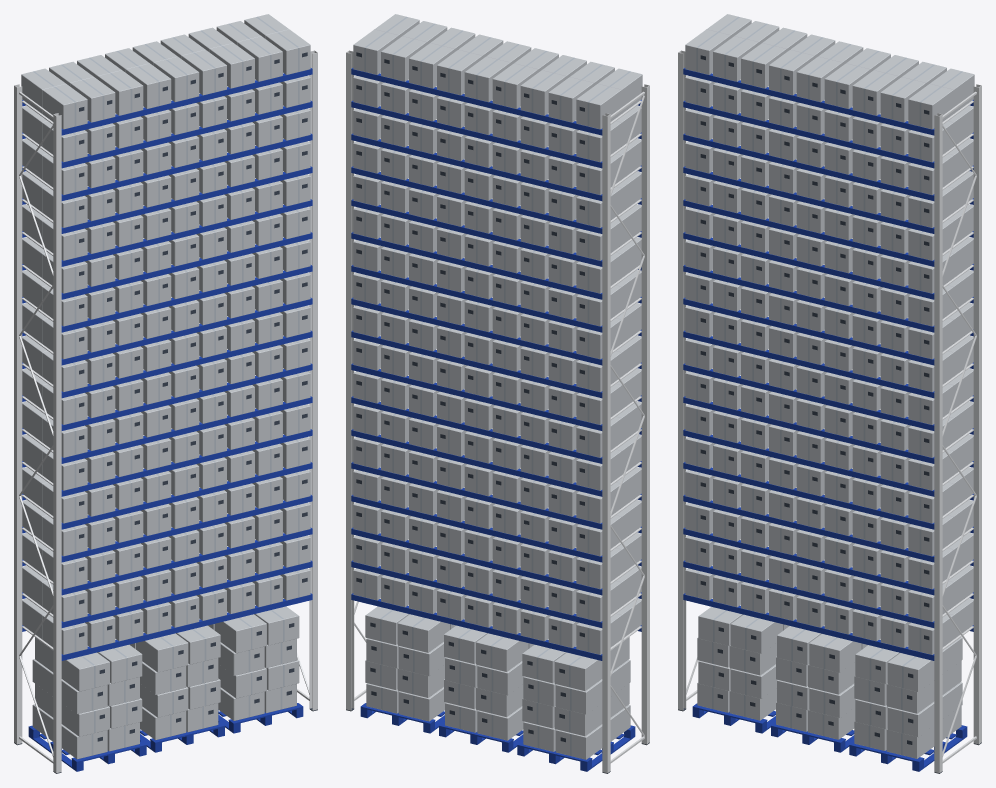
The model's file is SM_MPR_CADRack_F17P1_W144_Standard.fbx.
The picture shows the model from 3 angles, left to right: view 1: azimuth 30°, elevation 25°; view 2: azimuth 150°, elevation 25°; view 3: azimuth 330°, elevation 25°; orthographic projection.
Parts seen in each view (by area): view 1: SM_MPR_CADRack_F17P1_W144_Standard; view 2: SM_MPR_CADRack_F17P1_W144_Standard; view 3: SM_MPR_CADRack_F17P1_W144_Standard.
Boxes of the visible parts, x1,y1,x2,y2 form: SM_MPR_CADRack_F17P1_W144_Standard: [14, 14, 317, 773]; SM_MPR_CADRack_F17P1_W144_Standard: [346, 14, 649, 773]; SM_MPR_CADRack_F17P1_W144_Standard: [678, 14, 981, 773].
Bounding box in the file's own units: 381 × 122 × 929.
